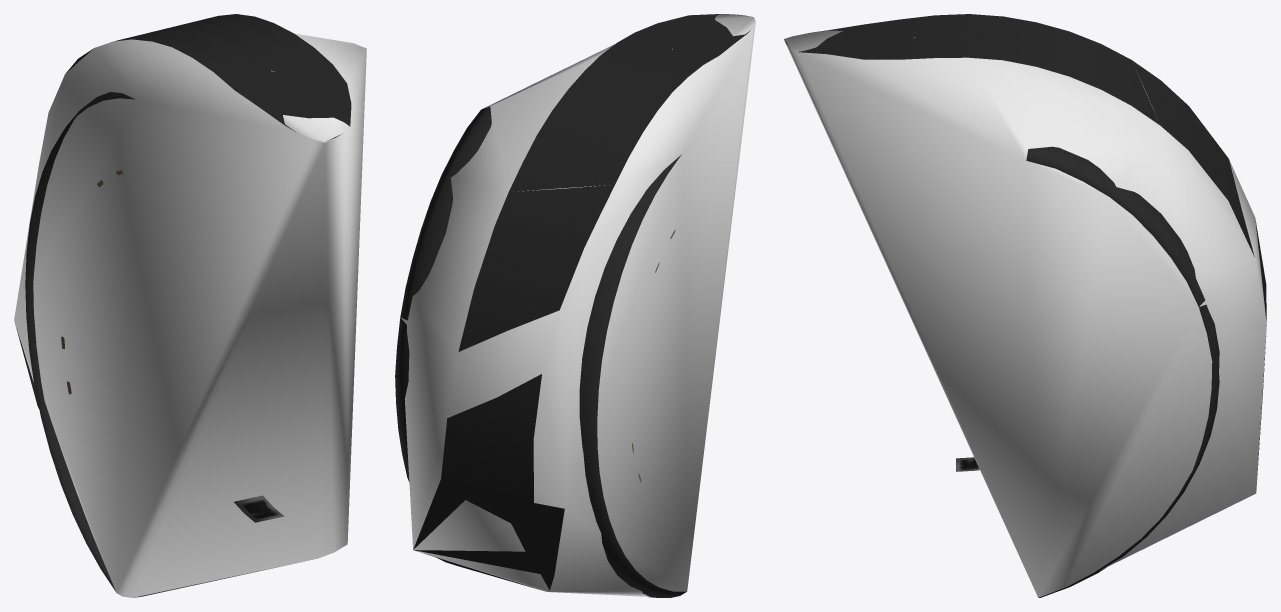
3 renders of one model, left to right at view 1: azimuth 30°, elevation 25°; view 2: azimuth 150°, elevation 25°; view 3: azimuth 270°, elevation 25°, orthographic. The views are drawn at different scales.
Visible parts, largest first — view 1: hub_stampede_front_01_col, hub_stampede_front_01; view 2: hub_stampede_front_01_col, hub_stampede_front_01; view 3: hub_stampede_front_01_col, hub_stampede_front_01.
Boxes of the visible parts, box(x1,y1,x2,y2) form: hub_stampede_front_01_col: box(14, 33, 366, 597); hub_stampede_front_01: box(15, 14, 351, 597); hub_stampede_front_01_col: box(400, 14, 755, 596); hub_stampede_front_01: box(395, 14, 750, 597); hub_stampede_front_01_col: box(784, 30, 1266, 597); hub_stampede_front_01: box(784, 14, 1266, 597).
Bounding box in the file's own units: 0.3308 × 0.7407 × 0.6383.
Materials: 4 (4 with a texture image).
